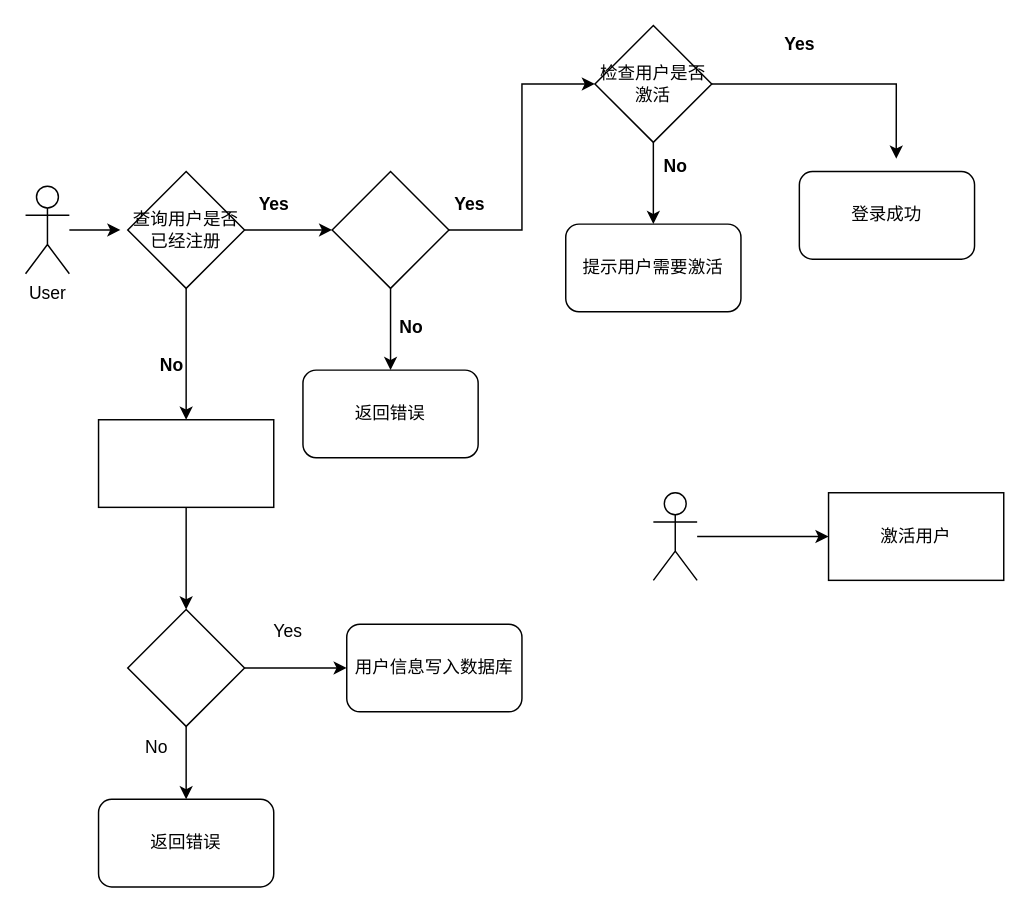
This 1029x913 diagram has some shape labels left out. Here are the shapes that lost their labels. From the top down, the centre of each, then its label:
At (390,229): "校验用户名密码是否正确".
At (185,462): "注册".
At (674,535): "Admin".
At (185,667): "校验用户信息是否合法".
